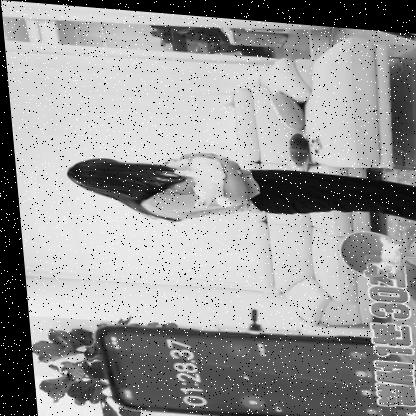streamer: (60, 141, 416, 238)
